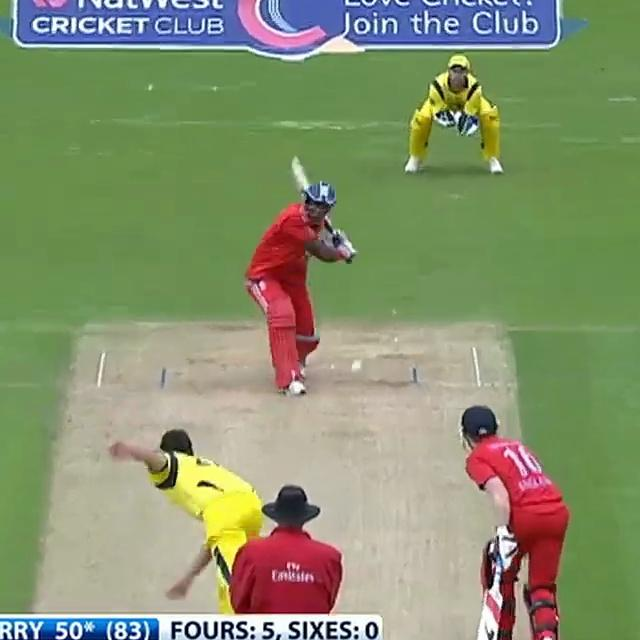umpire: (219, 478, 351, 640), (222, 478, 350, 618)
